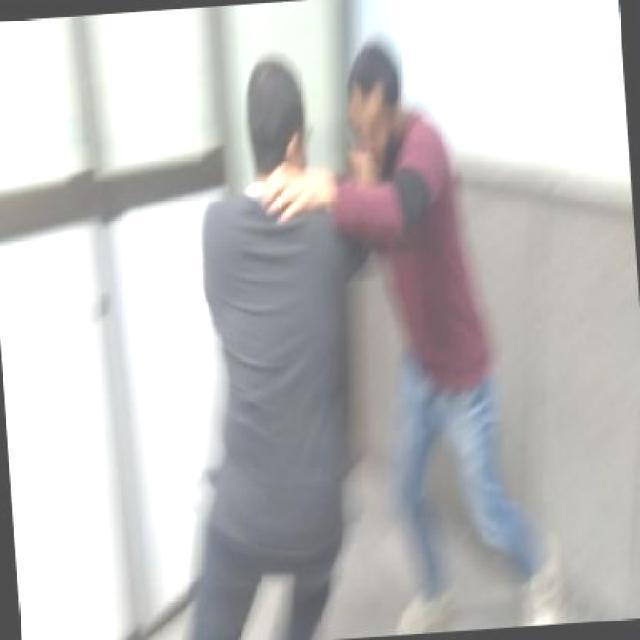fight: (186, 29, 500, 509)
